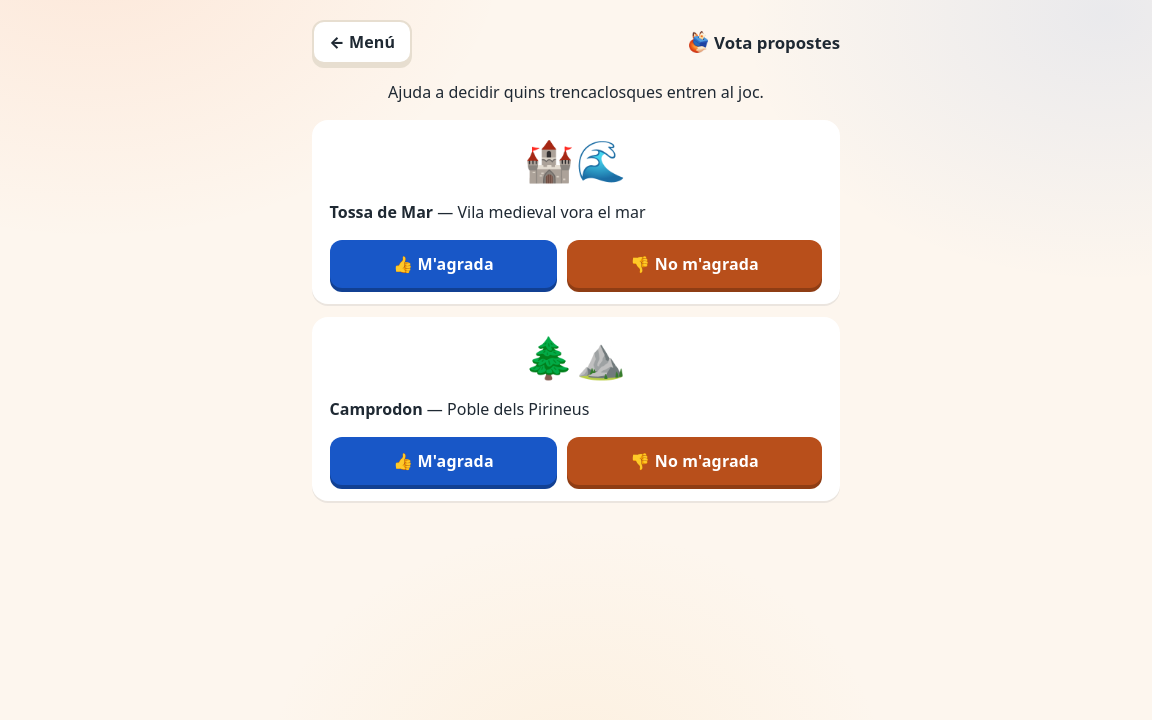
Test: VoteScreen component › mostra un missatge d'error si el registre del vot falla
The image size is (1152, 720).
expect the text "Tossa de Mar" is shown: met, box 330,201 -> 433,223
Click the button "👍 M'agrada" below "Tossa de Mar" at (443, 264), box 330,240 -> 557,288
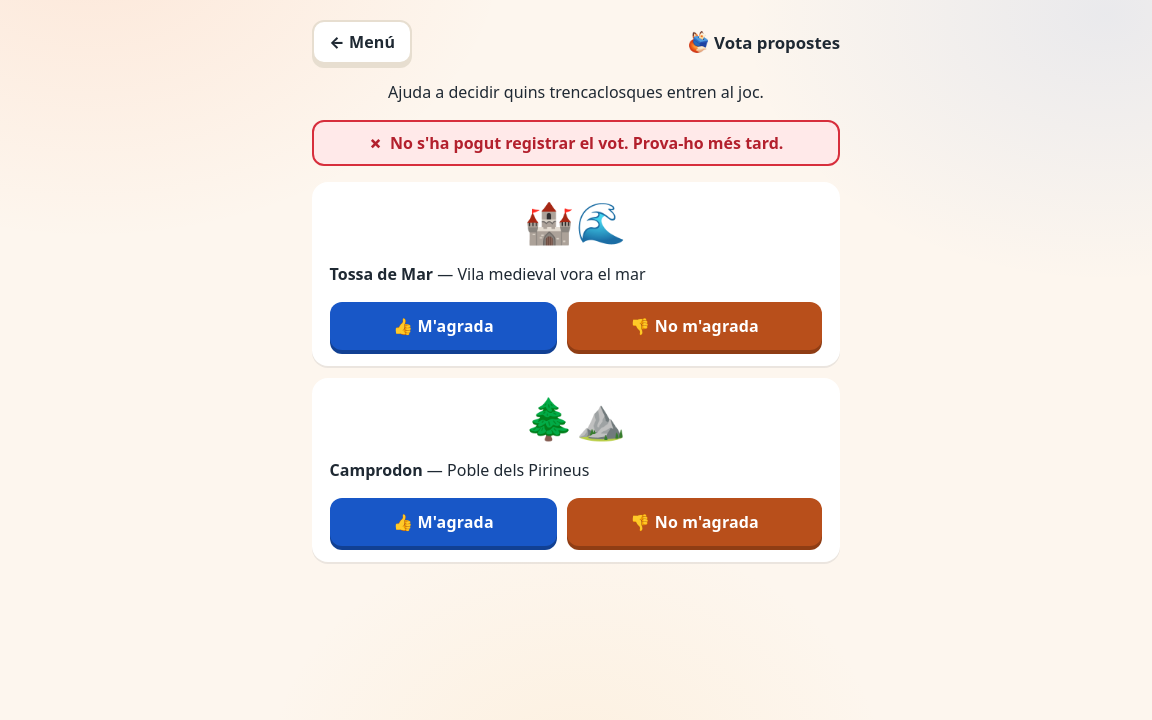
expect the message reads "No s'ha pogut registrar el vot. Prova-ho més tard.": met, box 390,132 -> 783,154
